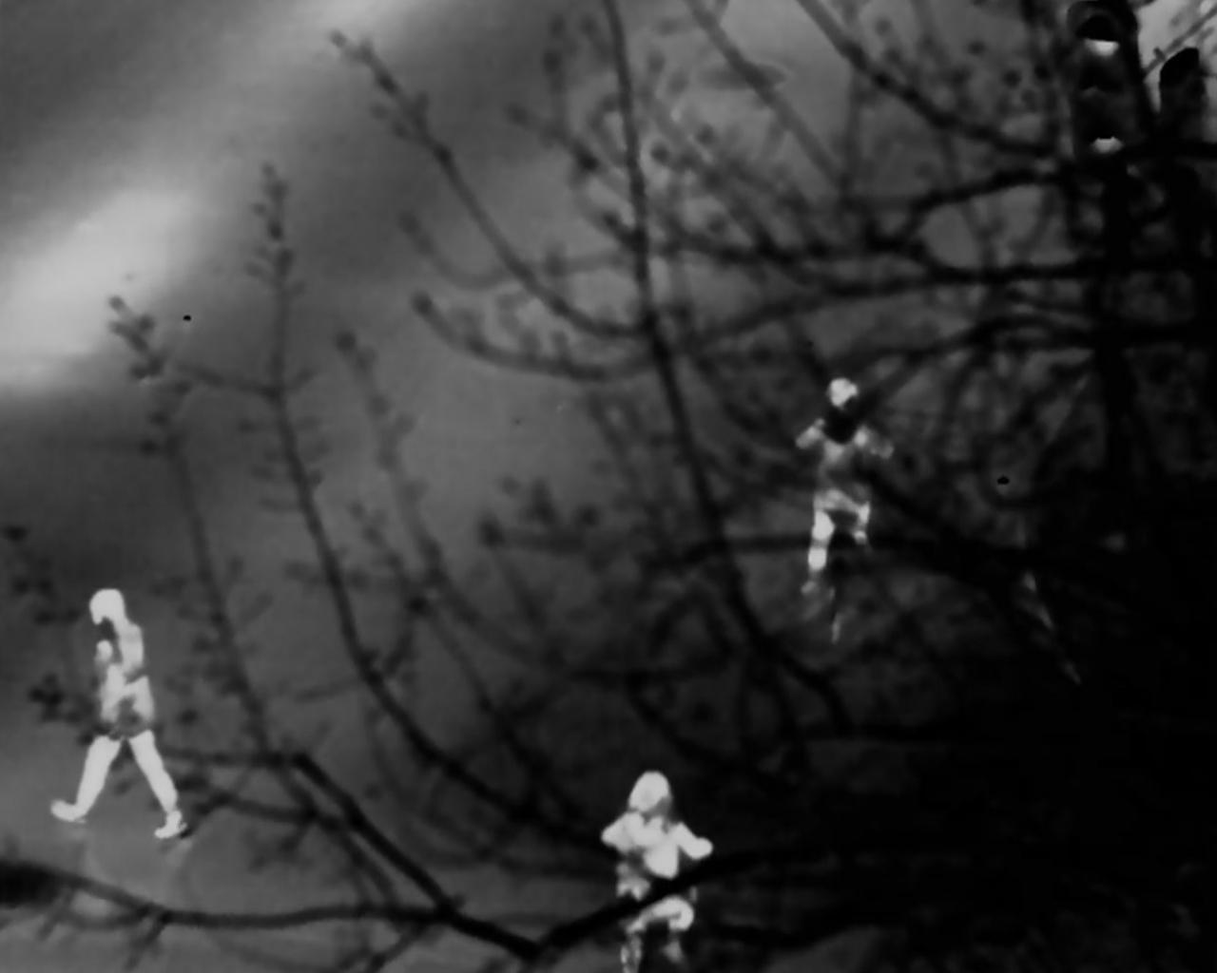person: (62, 585, 187, 855), (600, 774, 713, 939), (799, 370, 878, 582)
